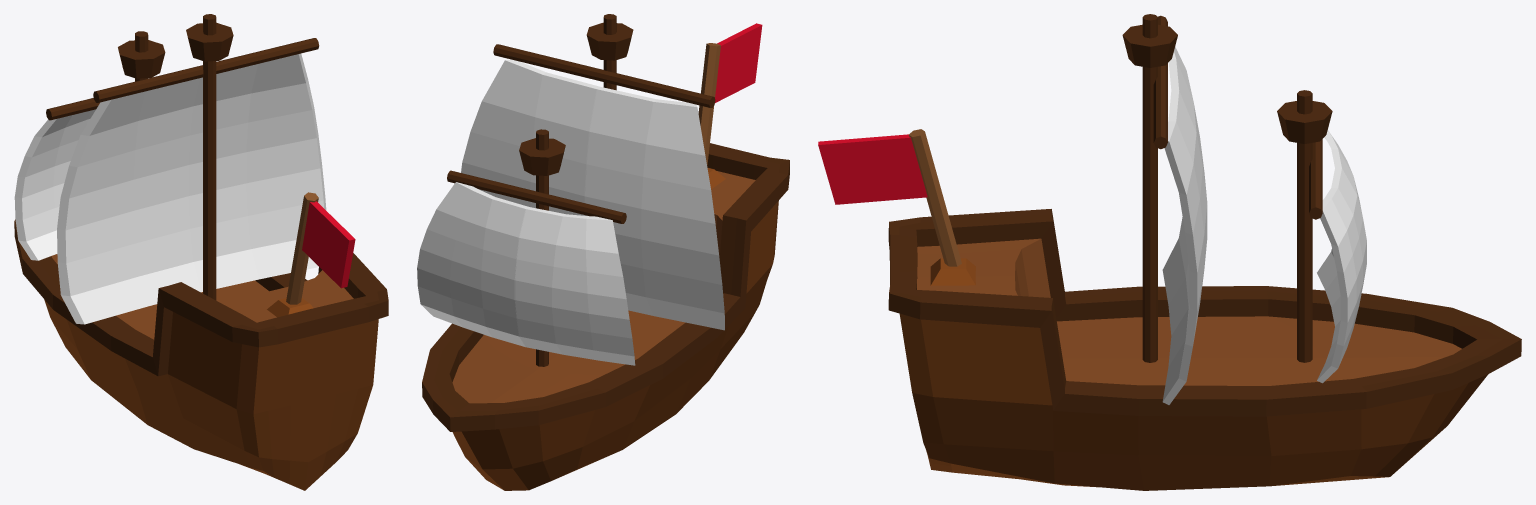
File: PirateShipMedium.fbx
3 renders of one model, left to right at view 1: azimuth 30°, elevation 25°; view 2: azimuth 150°, elevation 25°; view 3: azimuth 270°, elevation 25°, orthographic. The views are drawn at different scales.
Visible parts, largest first — view 1: Cube.001, Ship, Cube.003, Mast, Cube.004, Cylinder.001, Mast.001, Cylinder.004, Cylinder.002, Cube.005; view 2: Ship, Cube.001, Cube.003, Cylinder.001, Cube.004, Cylinder.002, Mast.001, Mast, Cylinder.004; view 3: Ship, Cube.001, Cube.003, Mast, Cube.004, Mast.001, Cylinder.004, Cylinder.001, Cube.005, Cylinder.002.
Boxes of the visible parts, left/top/right/bottom form: Cube.001: left=57, top=53, right=326, bottom=324; Ship: left=14, top=219, right=388, bottom=490; Cube.003: left=14, top=97, right=95, bottom=260; Mast: left=186, top=14, right=233, bottom=300; Cube.004: left=302, top=201, right=355, bottom=288; Cylinder.001: left=93, top=38, right=319, bottom=102; Mast.001: left=118, top=31, right=165, bottom=81; Cylinder.004: left=286, top=192, right=318, bottom=304; Cylinder.002: left=46, top=98, right=100, bottom=120; Cube.005: left=267, top=298, right=313, bottom=317; Ship: left=422, top=143, right=789, bottom=490; Cube.001: left=461, top=59, right=724, bottom=330; Cube.003: left=417, top=182, right=635, bottom=365; Cylinder.001: left=493, top=44, right=715, bottom=107; Cube.004: left=715, top=23, right=762, bottom=102; Cylinder.002: left=447, top=170, right=626, bottom=223; Mast.001: left=519, top=129, right=565, bottom=366; Mast: left=586, top=14, right=633, bottom=90; Cylinder.004: left=698, top=43, right=720, bottom=165; Ship: left=888, top=209, right=1521, bottom=490; Cube.001: left=1162, top=47, right=1207, bottom=404; Cube.003: left=1317, top=130, right=1366, bottom=383; Mast: left=1122, top=14, right=1177, bottom=362; Cube.004: left=818, top=134, right=927, bottom=204; Mast.001: left=1277, top=90, right=1332, bottom=362; Cylinder.004: left=909, top=129, right=961, bottom=266; Cylinder.001: left=1153, top=15, right=1167, bottom=149; Cube.005: left=930, top=258, right=975, bottom=285; Cylinder.002: left=1309, top=139, right=1322, bottom=219.
Bounding box in the file's own units: 4482 × 6676 × 9050.
